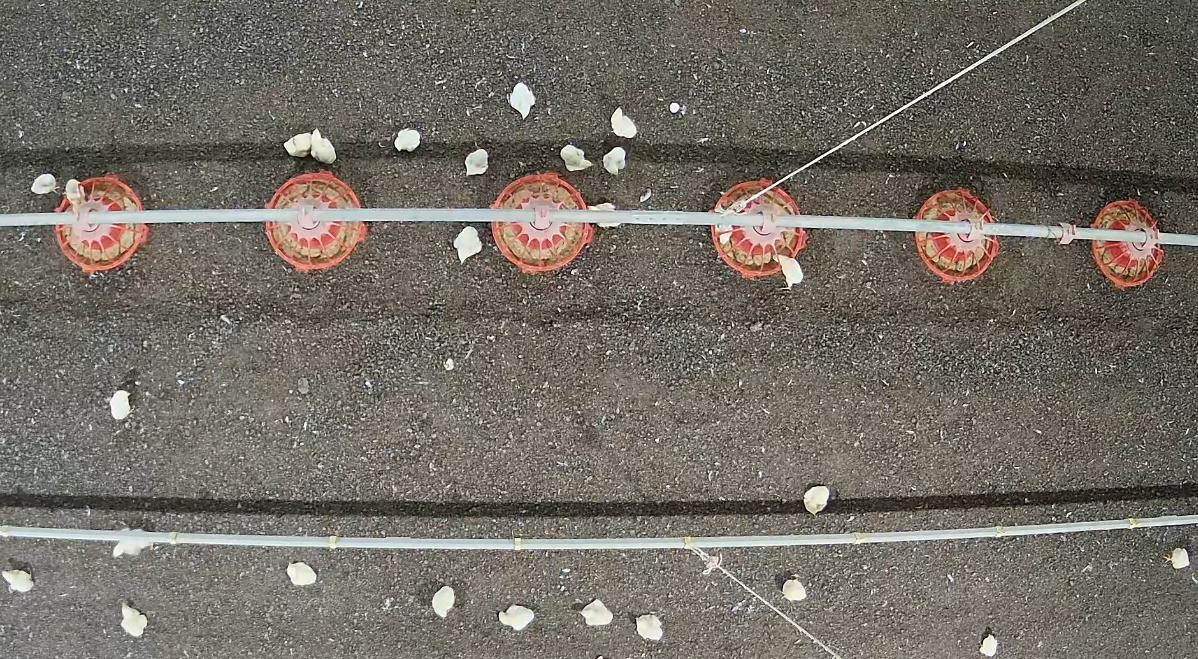chick: (450, 226, 484, 267), (508, 81, 538, 121), (577, 598, 615, 629), (114, 529, 156, 557), (120, 601, 150, 638), (497, 602, 536, 630), (771, 254, 803, 286), (586, 202, 623, 229), (632, 613, 666, 642), (431, 584, 456, 620), (560, 144, 591, 172), (610, 108, 638, 139), (391, 127, 422, 155), (803, 484, 830, 516), (463, 147, 490, 178), (310, 129, 335, 162), (781, 576, 808, 606), (2, 569, 34, 593), (602, 147, 628, 176), (288, 561, 317, 587), (282, 133, 312, 157), (110, 390, 132, 421), (712, 218, 736, 245), (1164, 545, 1191, 569), (29, 173, 57, 196), (63, 177, 84, 204), (977, 632, 998, 656)
rice: (491, 172, 593, 274), (265, 170, 366, 269), (710, 177, 806, 281), (55, 175, 147, 272), (913, 186, 1000, 284), (1089, 199, 1163, 287)
